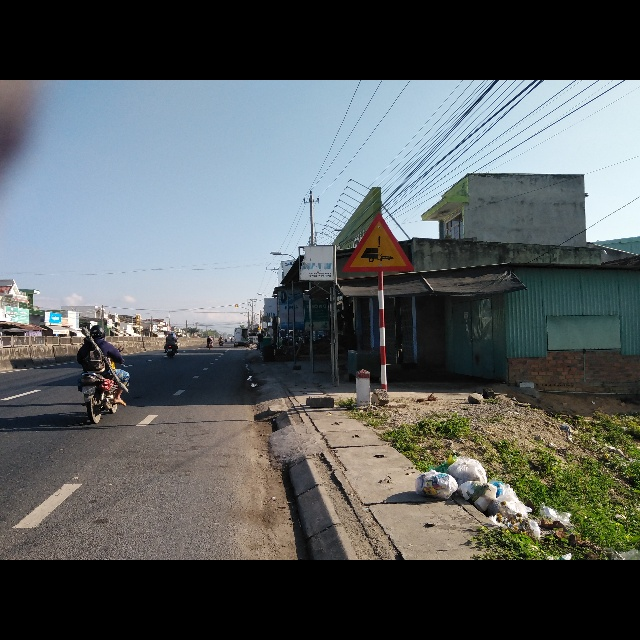Hết hạn chế tốc độ tối đa 50km/h: (343, 210, 416, 274)
